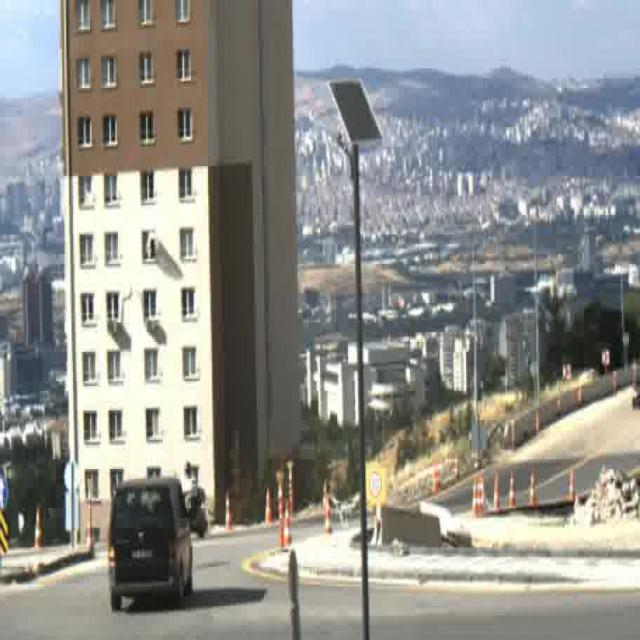Car: (109, 475, 191, 608)
Motorcycle: (186, 470, 207, 536)
